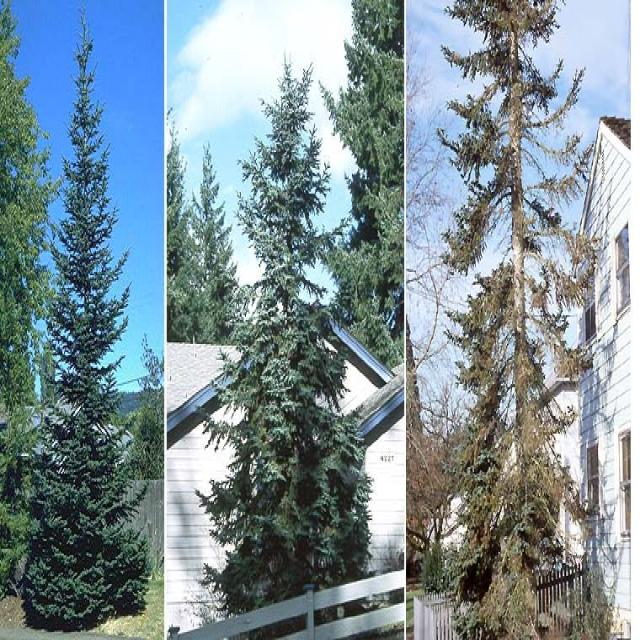Abies: (442, 1, 597, 640), (197, 54, 371, 616), (20, 1, 154, 618)
